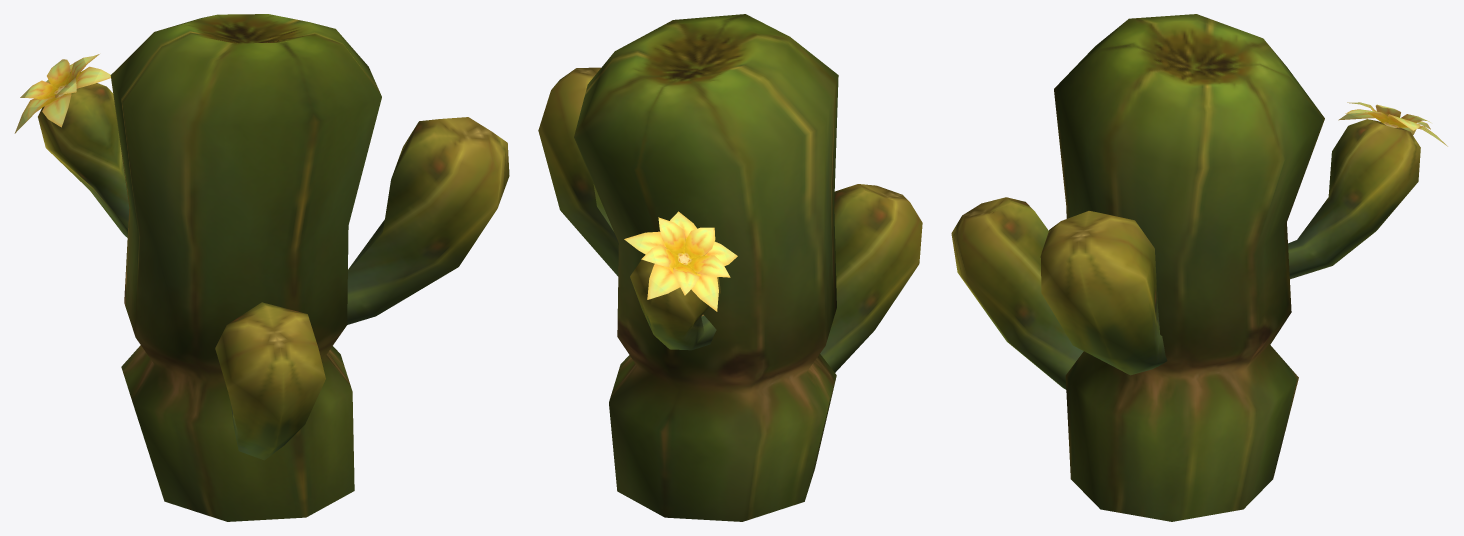
File: FB5_xianrenzhang04.FBX
3 renders of one model, left to right at view 1: azimuth 30°, elevation 25°; view 2: azimuth 150°, elevation 25°; view 3: azimuth 270°, elevation 25°, orthographic. The views are drawn at different scales.
Parts seen in each view (by area): view 1: FB5_xianrenzhang04; view 2: FB5_xianrenzhang04; view 3: FB5_xianrenzhang04.
Boxes of the visible parts, x1,y1,x2,y2 form: FB5_xianrenzhang04: [14, 14, 509, 521]; FB5_xianrenzhang04: [538, 14, 922, 521]; FB5_xianrenzhang04: [951, 14, 1447, 521].
Size of the model in its own units: 414 by 536 by 550.
Materials: 1 (1 with a texture image).
